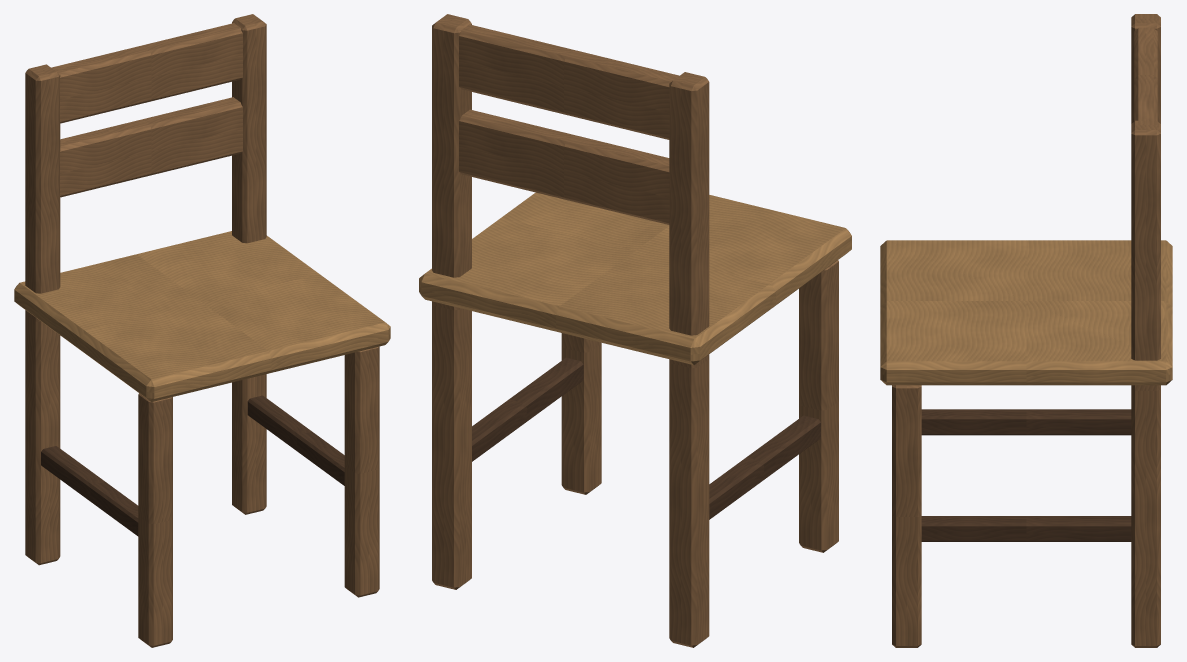
Rendered from chair.glb.
3 views of the same model, side by side, from view 1: azimuth 30°, elevation 25°; view 2: azimuth 150°, elevation 25°; view 3: azimuth 270°, elevation 25° (orthographic). The views are drawn at different scales.
Visible parts, largest first — view 1: chair_Mesh; view 2: chair_Mesh; view 3: chair_Mesh.
Boxes of the visible parts, x1,y1,x2,y2 form: chair_Mesh: (14, 14, 390, 647); chair_Mesh: (419, 14, 851, 647); chair_Mesh: (880, 14, 1172, 647).
Size of the model in its own units: 0.45 by 0.86 by 0.44.
Materials: 3 (3 with a texture image).
